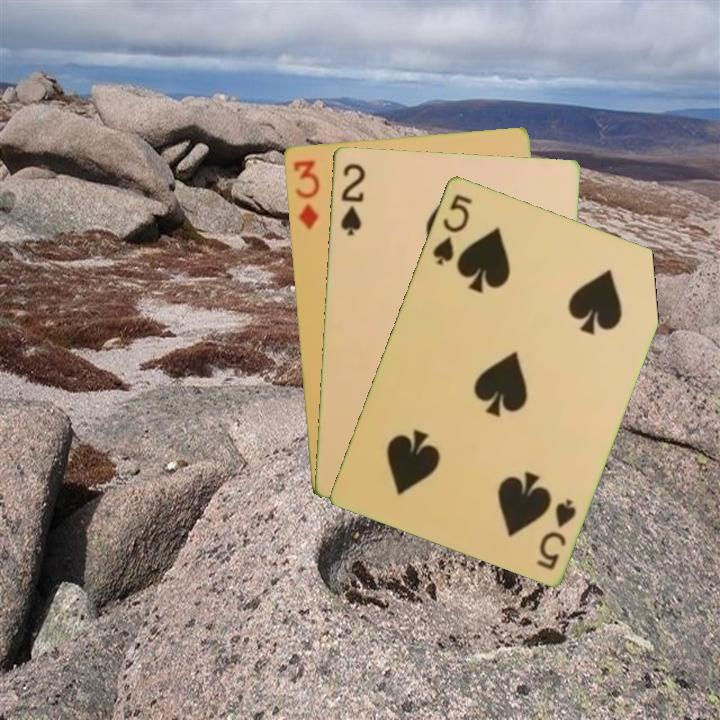2s: (337, 159, 368, 238)
3d: (289, 156, 322, 232)
5s: (428, 190, 475, 268), (532, 495, 579, 572)
